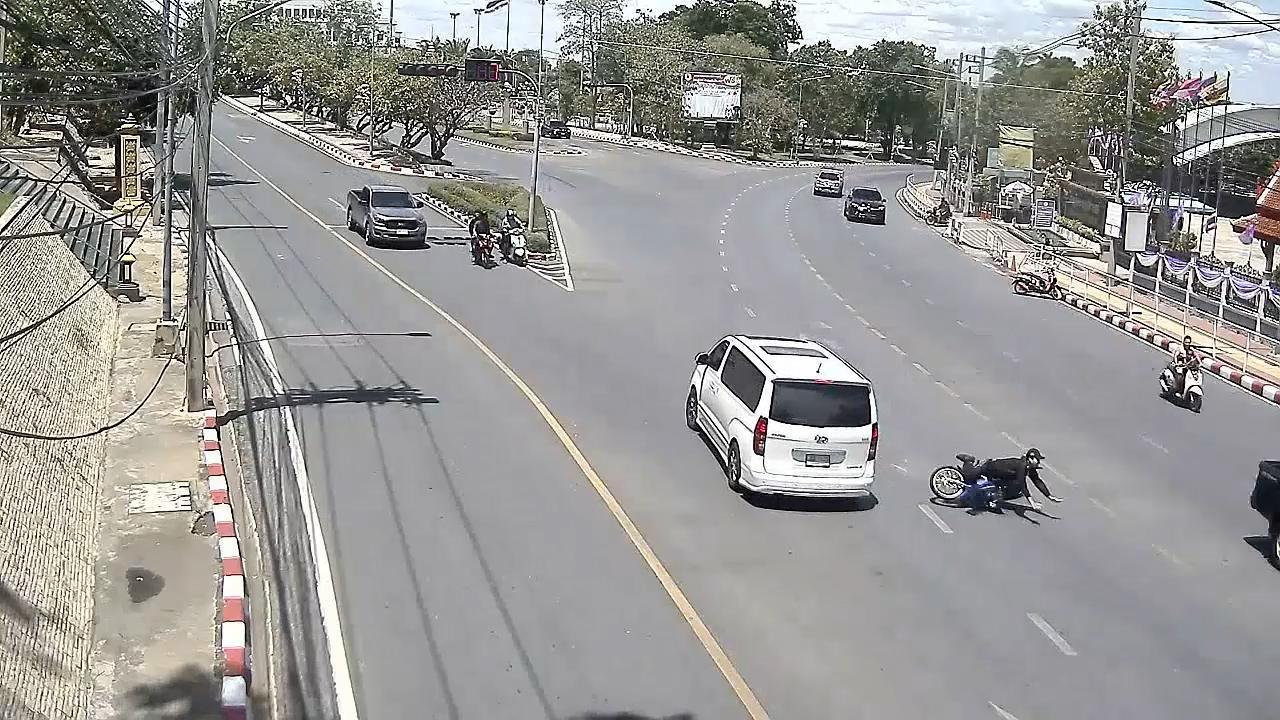accident: (956, 445, 1064, 512)
